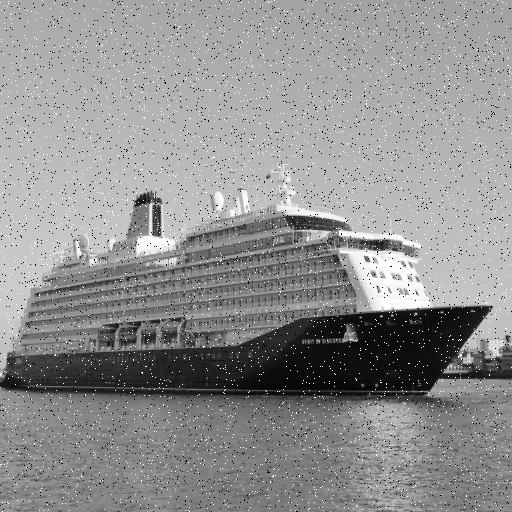cruises: (1, 158, 497, 402)
